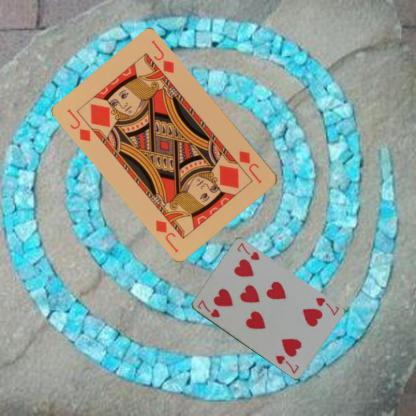7h: (313, 294, 340, 316), (194, 297, 220, 319)
Jd: (236, 148, 264, 185), (65, 106, 92, 143)
